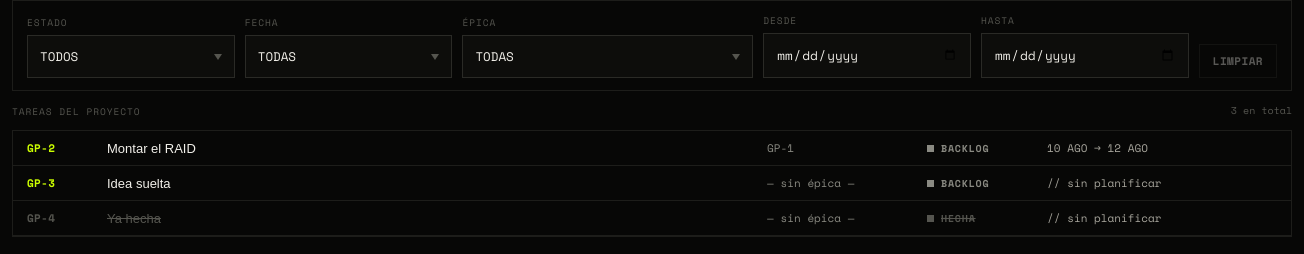
Scenario: BacklogView › filtra por épica
The image size is (1304, 254).
Select "GP-1 · Infraestructura" in the dropdown labelled "Épica": {"x": 608, "y": 56} [462,35,753,78]
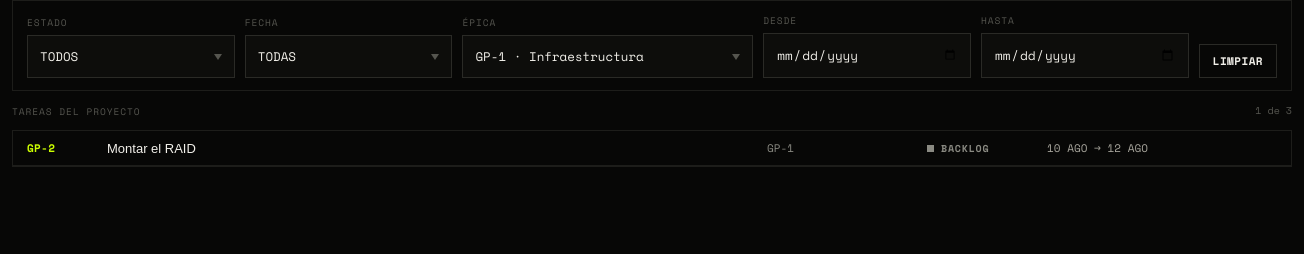
Expected: the text "Montar el RAID" is shown, [107,140,196,156]
Now the button "Idea suelta" is gone
